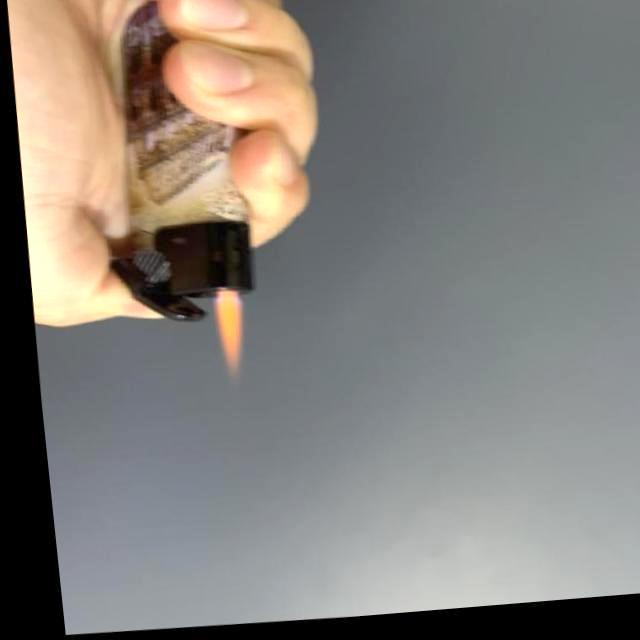fire: (200, 294, 244, 378)
